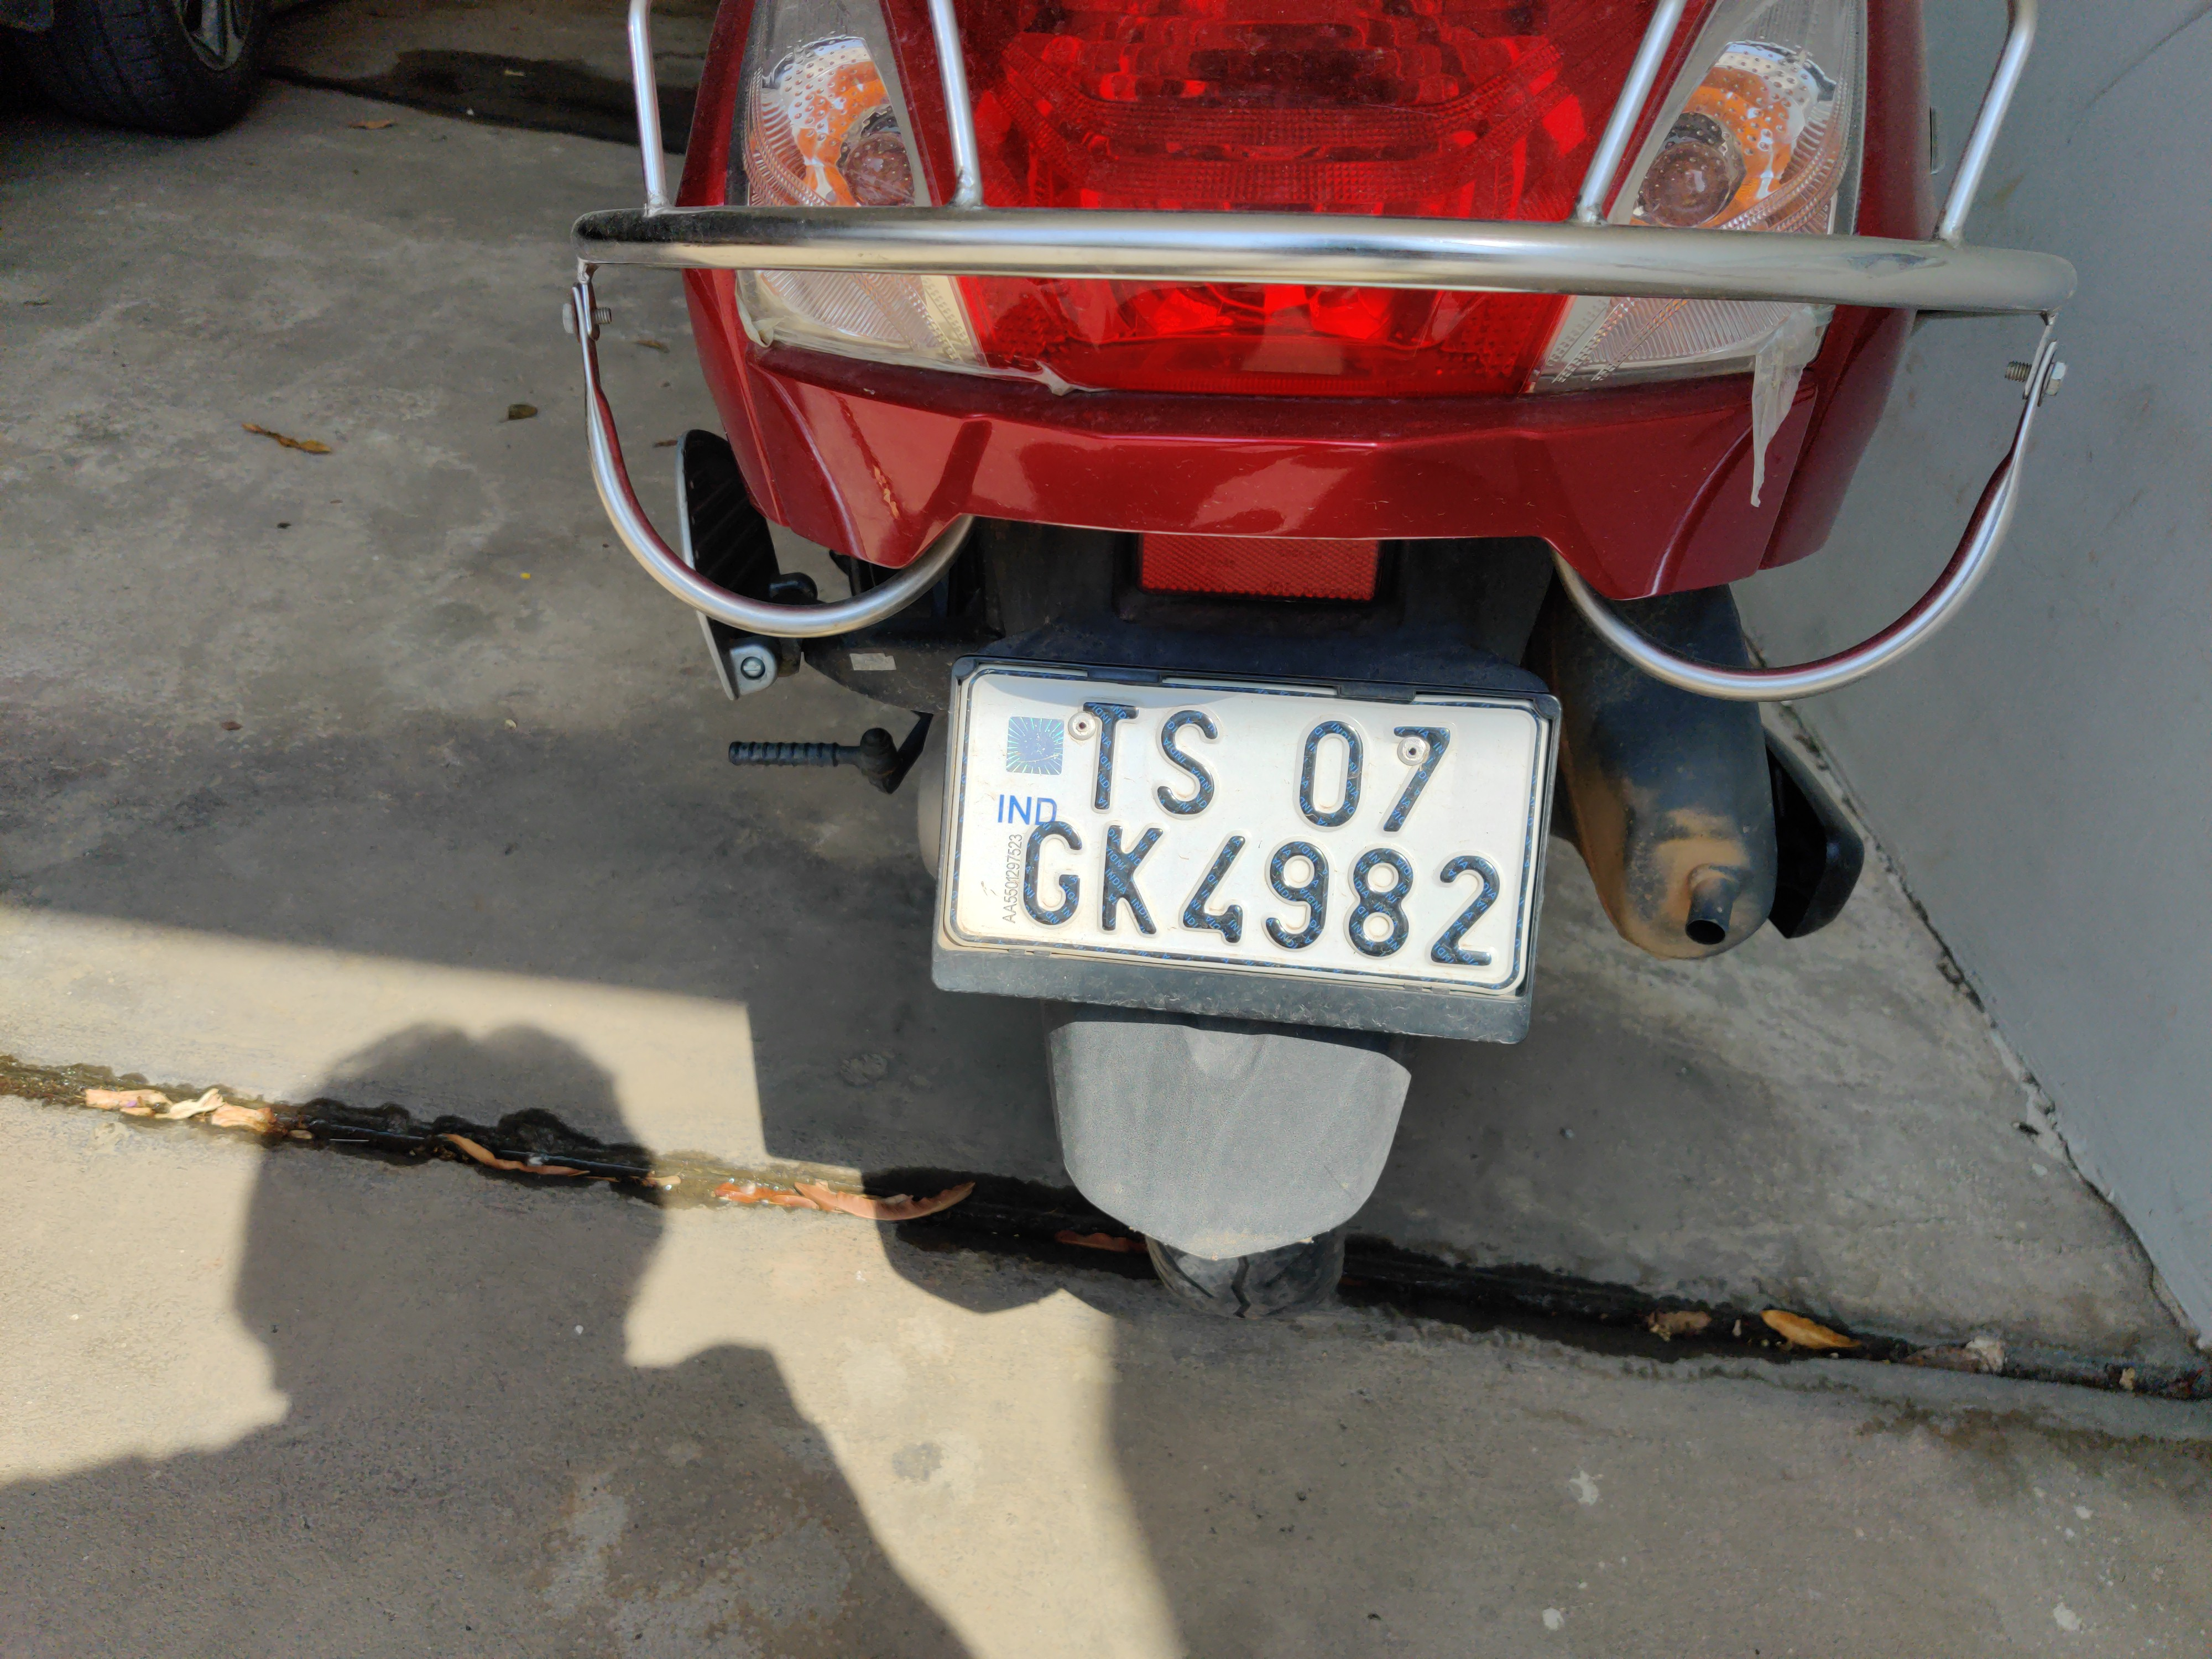plate: (915, 622, 1590, 1076)
